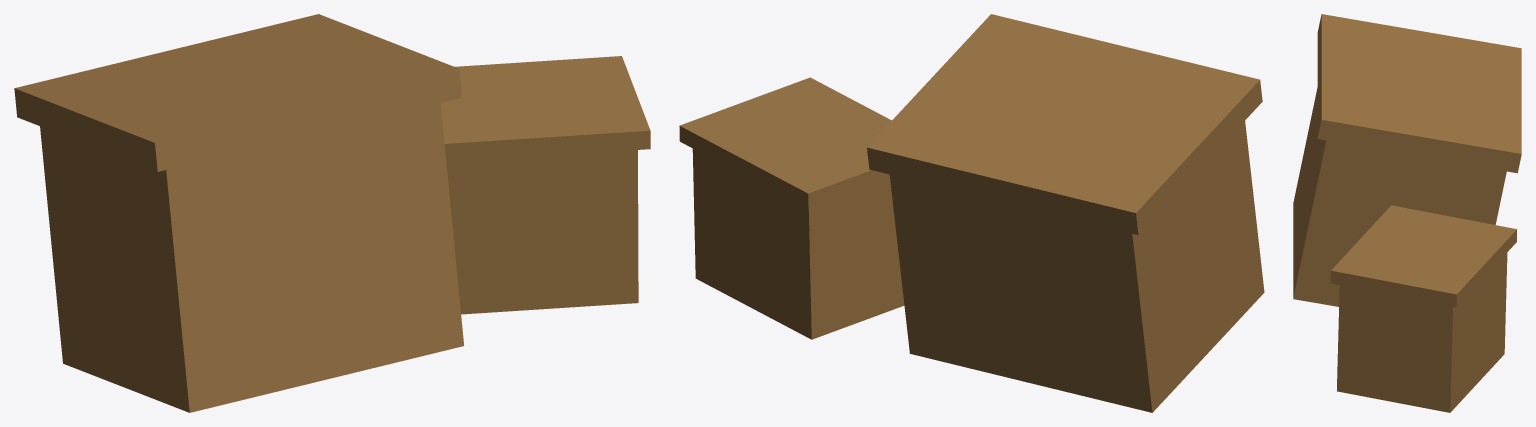
File: cajas.fbx
3 renders of one model, left to right at view 1: azimuth 30°, elevation 25°; view 2: azimuth 150°, elevation 25°; view 3: azimuth 270°, elevation 25°, orthographic. The views are drawn at different scales.
Parts seen in each view (by area): view 1: Boxes; view 2: Boxes; view 3: Boxes.
Boxes of the visible parts, x1,y1,x2,y2 form: Boxes: [14, 14, 650, 412]; Boxes: [679, 14, 1264, 412]; Boxes: [1293, 14, 1521, 412].
Bounding box in the file's own units: 183 × 94.02 × 90.37.
